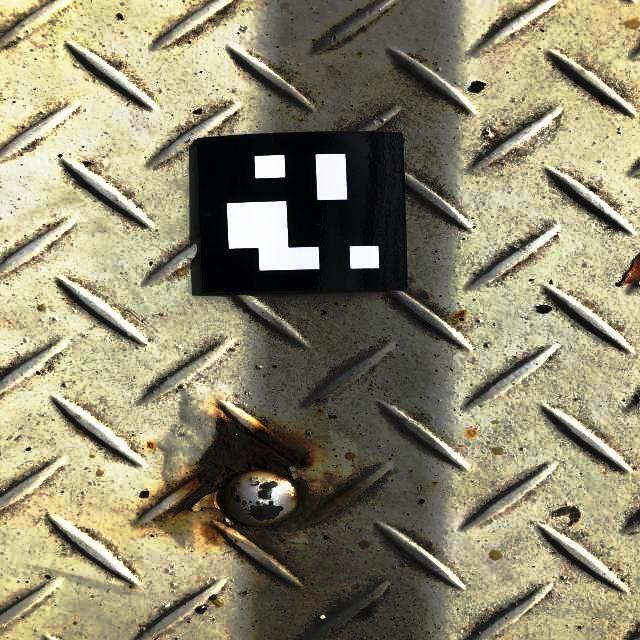Corrosion: (159, 410, 308, 528), (323, 480, 365, 510), (457, 311, 466, 317)
